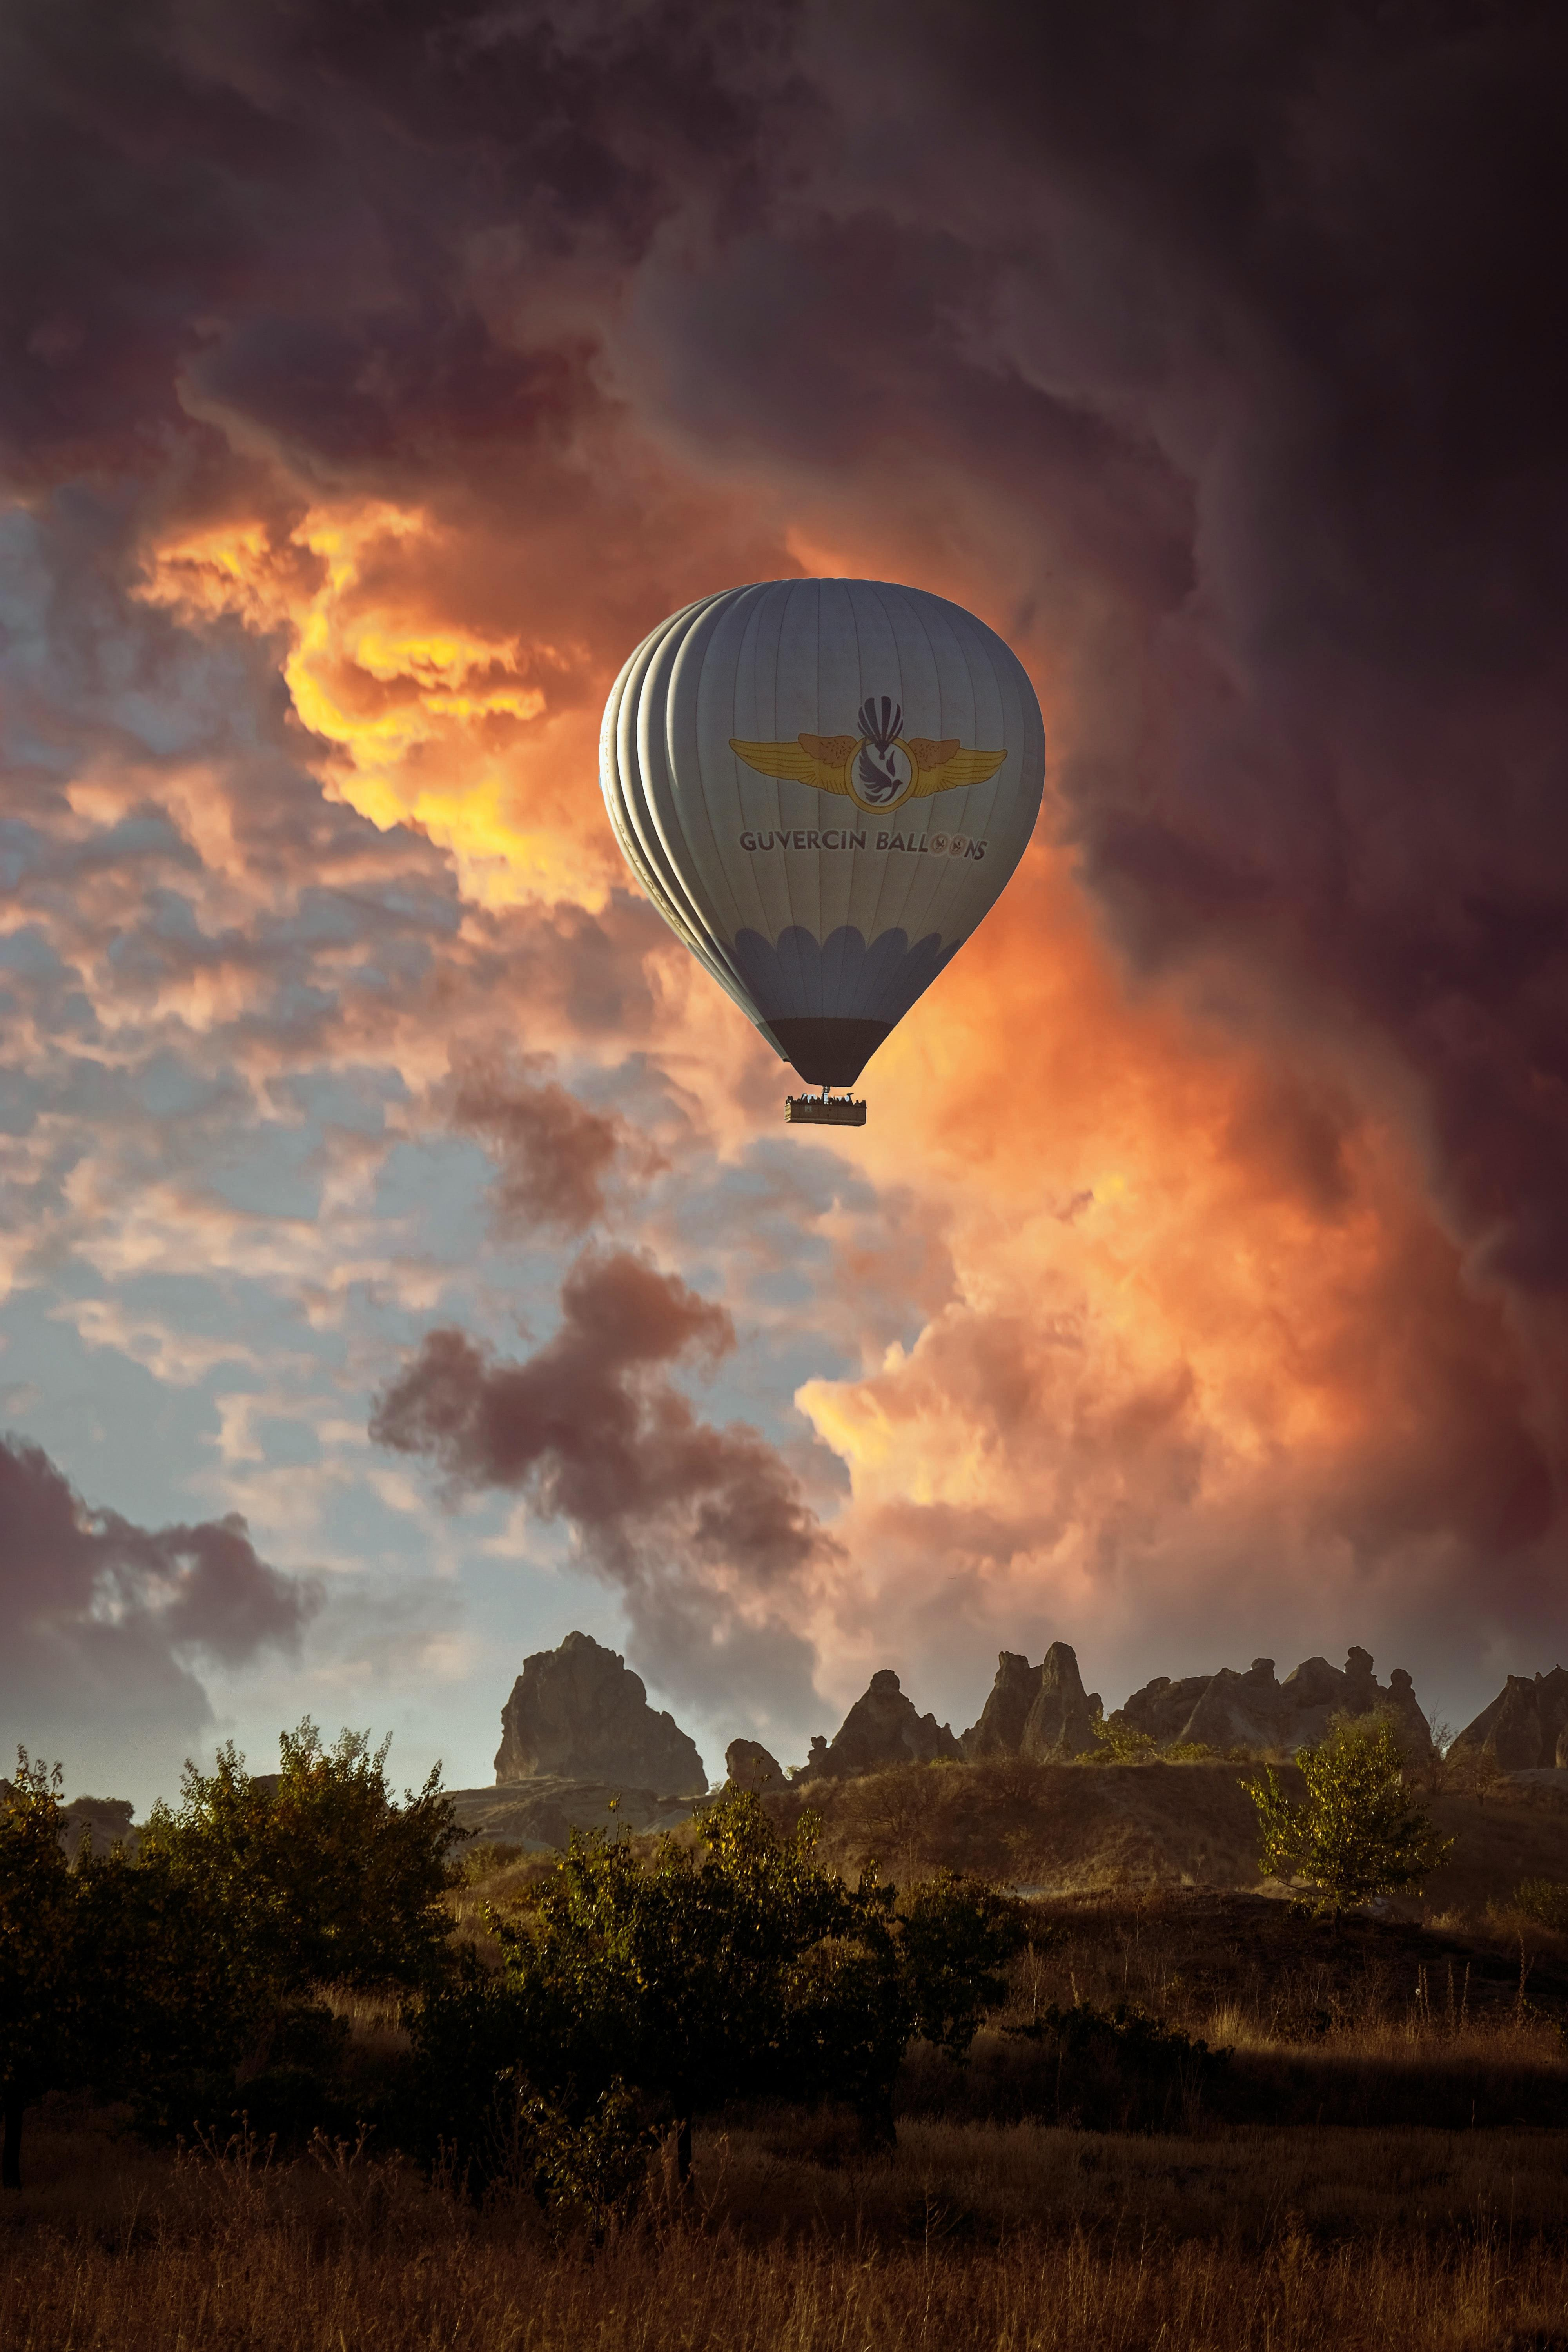hot air ballon: (595, 579, 1050, 1127)
